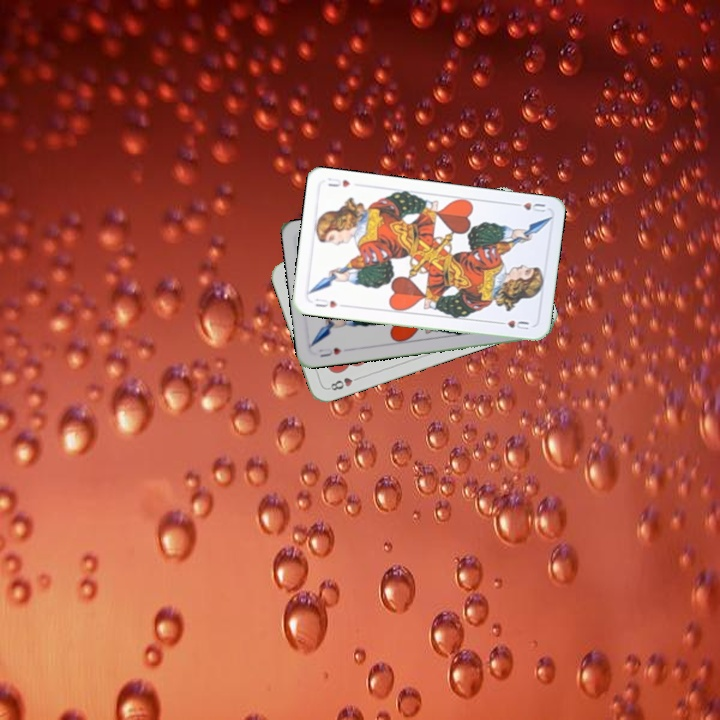H8: (324, 372, 363, 393)
HU: (509, 198, 548, 215), (315, 343, 344, 360), (311, 294, 340, 310)
